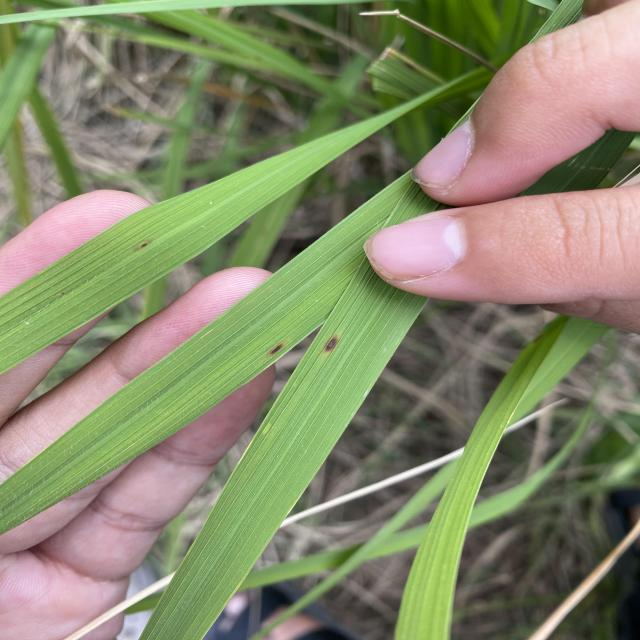Dom nau: (321, 332, 340, 355), (266, 342, 287, 357), (135, 239, 155, 251)
